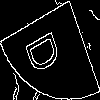D: (24, 24, 68, 77)
